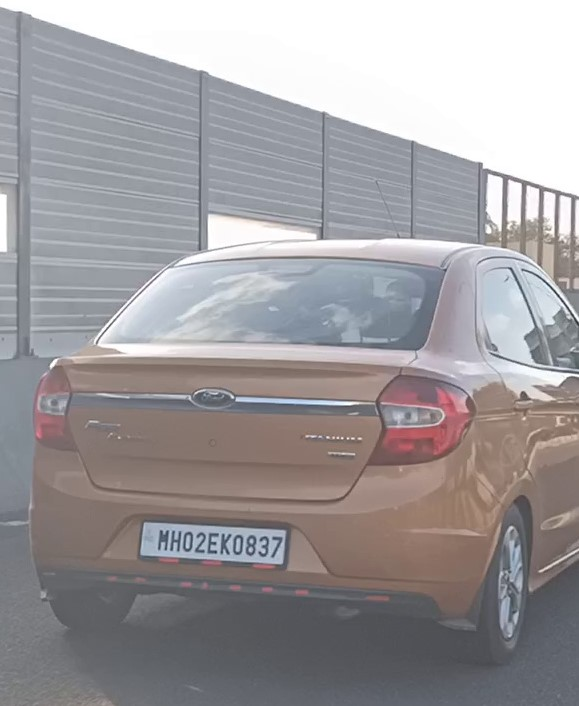MH02EK0837: (138, 521, 289, 568)
